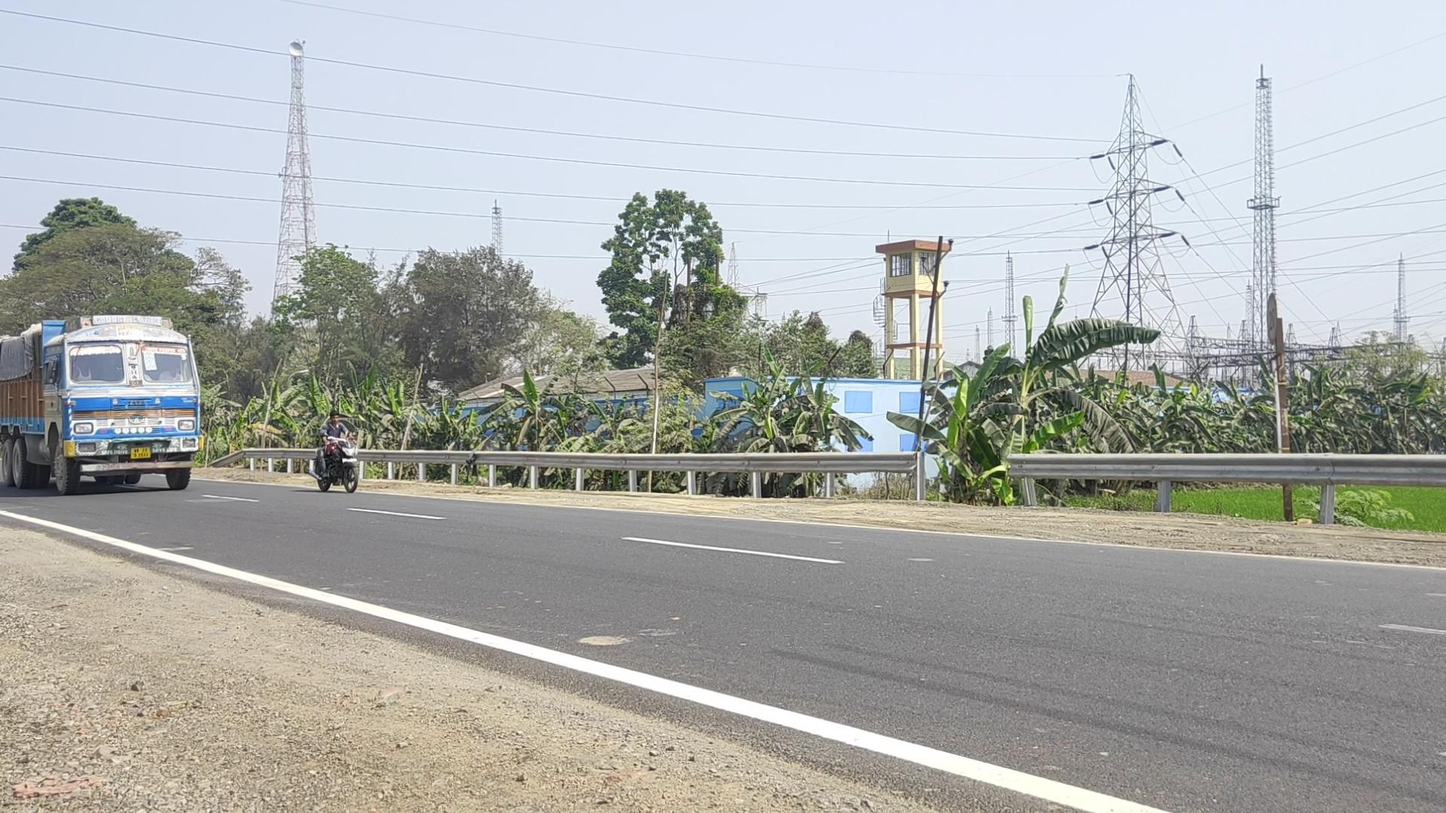bike: (308, 410, 360, 493)
truck: (2, 314, 201, 495)
